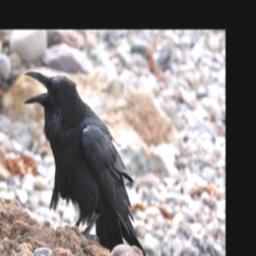Crow: (24, 72, 150, 256)
